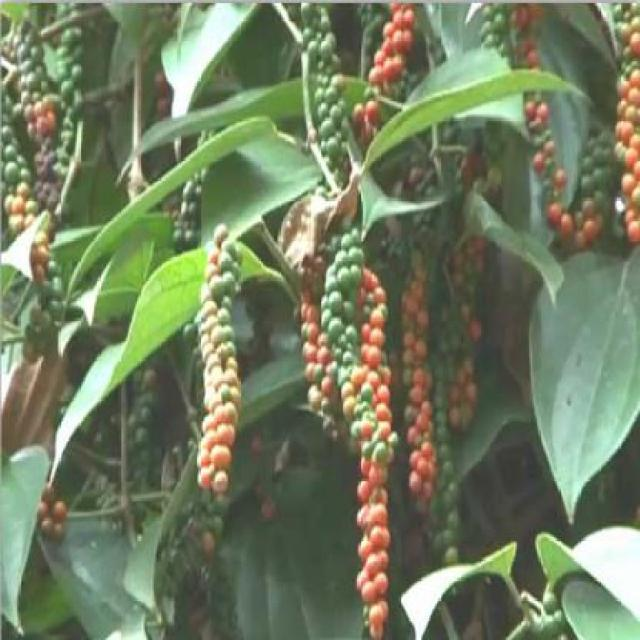RIPE: (505, 0, 588, 266), (191, 224, 246, 499), (355, 288, 398, 634), (397, 250, 443, 502), (441, 229, 493, 440), (352, 7, 414, 147), (609, 5, 640, 232), (29, 483, 82, 566), (1, 196, 57, 273), (28, 96, 54, 139)
UNRIPE: (305, 5, 353, 178), (50, 6, 90, 115)
